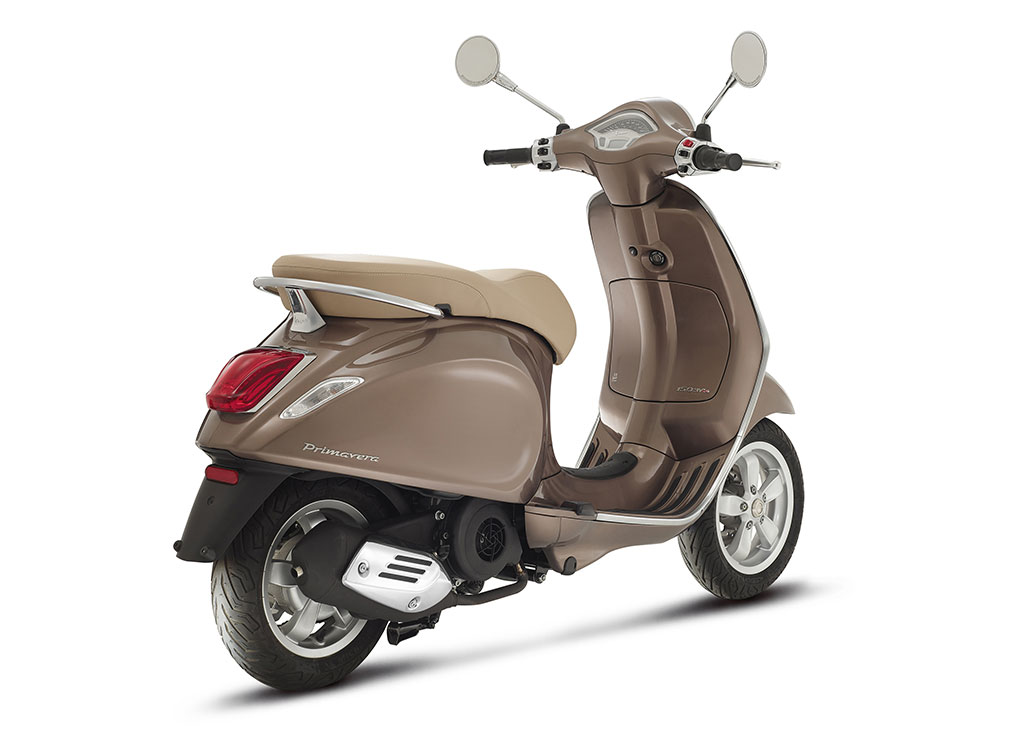motorcycle: (190, 94, 805, 690)
